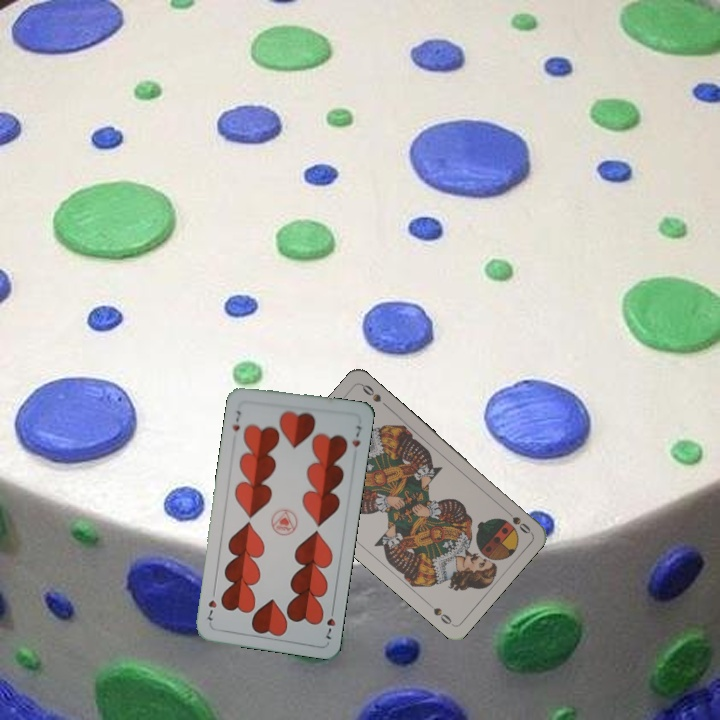H7: (322, 603, 338, 642), (228, 406, 244, 434)
SO: (500, 505, 533, 536)
